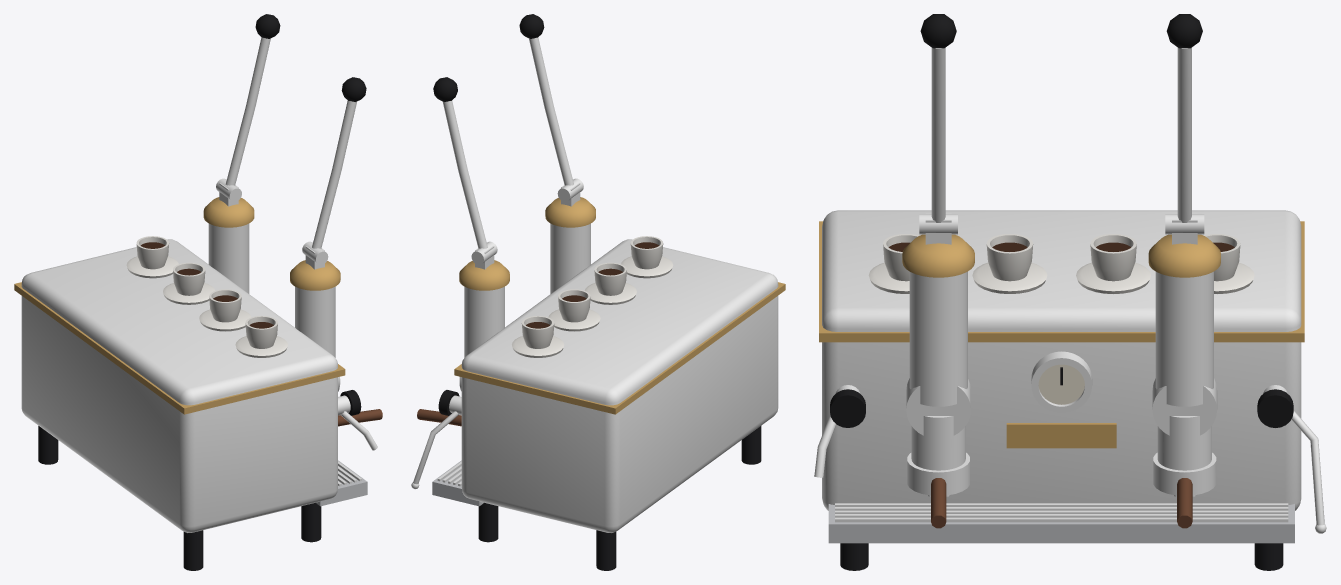
The model's file is espresso_lever.glb.
3 views of the same model, side by side, from view 1: azimuth 30°, elevation 25°; view 2: azimuth 150°, elevation 25°; view 3: azimuth 270°, elevation 25° (orthographic). The views are drawn at different scales.
Visible parts, largest first — view 1: Body_LOD0, Band_LOD0, Tower_LOD0.001, Tower_LOD0, Lever_LOD0.001, Lever_LOD0, TowerCap_LOD0.001, TowerCap_LOD0, Cup_LOD0.001, Cup_LOD0.003, Cup_LOD0.002, Cup_LOD0 (+10 smaller); view 2: Body_LOD0, Band_LOD0, Tower_LOD0, Tower_LOD0.001, Lever_LOD0, Lever_LOD0.001, TowerCap_LOD0.001, TowerCap_LOD0, Cup_LOD0.002, Cup_LOD0, Cup_LOD0.001, Cup_LOD0.003 (+11 smaller); view 3: Body_LOD0, Tray_LOD0, Tower_LOD0, Tower_LOD0.001, Band_LOD0, Badge_LOD0, Lever_LOD0.001, Lever_LOD0, Grate_LOD0.004, Group_LOD0, Group_LOD0.001, TowerCap_LOD0 (+30 smaller).
Boxes of the visible parts, bbox=[...] form: Body_LOD0: bbox=[21, 239, 337, 532]; Band_LOD0: bbox=[14, 282, 345, 414]; Tower_LOD0.001: bbox=[208, 223, 249, 293]; Tower_LOD0: bbox=[295, 286, 335, 357]; Lever_LOD0.001: bbox=[225, 37, 270, 185]; Lever_LOD0: bbox=[312, 100, 356, 248]; TowerCap_LOD0.001: bbox=[203, 197, 254, 227]; TowerCap_LOD0: bbox=[290, 260, 340, 290]; Cup_LOD0.001: bbox=[209, 289, 241, 322]; Cup_LOD0.003: bbox=[136, 236, 169, 269]; Cup_LOD0.002: bbox=[173, 262, 205, 295]; Cup_LOD0: bbox=[245, 315, 277, 348]; Body_LOD0: bbox=[461, 239, 778, 532]; Band_LOD0: bbox=[454, 282, 785, 414]; Tower_LOD0: bbox=[550, 223, 590, 293]; Tower_LOD0.001: bbox=[464, 286, 504, 357]; Lever_LOD0: bbox=[529, 37, 573, 185]; Lever_LOD0.001: bbox=[443, 100, 487, 248]; TowerCap_LOD0.001: bbox=[459, 260, 509, 290]; TowerCap_LOD0: bbox=[545, 197, 595, 227]; Cup_LOD0.002: bbox=[558, 289, 590, 322]; Cup_LOD0: bbox=[630, 236, 663, 269]; Cup_LOD0.001: bbox=[594, 262, 626, 295]; Cup_LOD0.003: bbox=[521, 316, 554, 348]; Body_LOD0: bbox=[822, 210, 1301, 510]; Tray_LOD0: bbox=[828, 504, 1294, 543]; Tower_LOD0: bbox=[909, 271, 967, 406]; Tower_LOD0.001: bbox=[1155, 271, 1213, 406]; Band_LOD0: bbox=[819, 221, 1304, 342]; Badge_LOD0: bbox=[1006, 423, 1116, 448]; Lever_LOD0.001: bbox=[1177, 47, 1191, 222]; Lever_LOD0: bbox=[931, 48, 945, 222]; Grate_LOD0.004: bbox=[835, 517, 1288, 522]; Group_LOD0: bbox=[911, 416, 965, 470]; Group_LOD0.001: bbox=[1157, 416, 1211, 470]; TowerCap_LOD0: bbox=[902, 234, 974, 277].
Bounding box in the file's own units: 0.6061 × 1.02 × 0.791.
